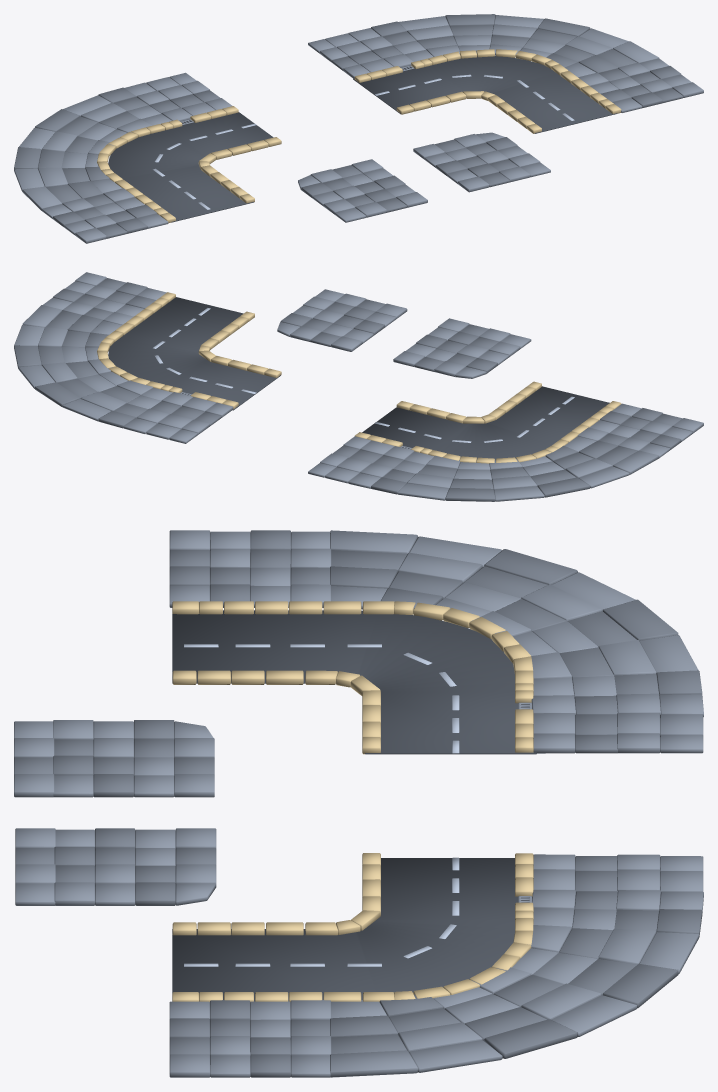
The picture shows the model from 3 angles, top to bottom: view 1: azimuth 30°, elevation 25°; view 2: azimuth 150°, elevation 25°; view 3: azimuth 270°, elevation 25°; orthographic projection. The views are drawn at different scales.
Parts seen in each view (by area): view 1: Straight_road_1.003, Straight_road_1.004, Straight_road_1.006, Straight_road_1.005; view 2: Straight_road_1.004, Straight_road_1.003, Straight_road_1.005, Straight_road_1.006; view 3: Straight_road_1.004, Straight_road_1.003, Straight_road_1.006, Straight_road_1.005.
Boxes of the visible parts, box(x1,y1,x2,y2) form: Straight_road_1.003: box(308, 14, 703, 133); Straight_road_1.004: box(14, 72, 281, 243); Straight_road_1.006: box(413, 132, 550, 192); Straight_road_1.005: box(298, 159, 427, 222); Straight_road_1.004: box(308, 381, 703, 501); Straight_road_1.003: box(14, 272, 281, 443); Straight_road_1.005: box(393, 318, 531, 378); Straight_road_1.006: box(277, 289, 407, 351); Straight_road_1.004: box(169, 530, 703, 754); Straight_road_1.003: box(169, 853, 703, 1077); Straight_road_1.006: box(15, 828, 216, 905); Straight_road_1.005: box(14, 720, 214, 797).
Bounding box in the file's own units: 9300 × 56.94 × 5003.
